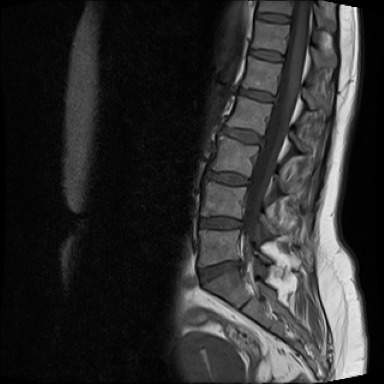Lumbar Disc Bulge (LDB): (188, 251, 249, 291), (211, 120, 269, 150), (194, 208, 248, 234), (230, 82, 281, 106), (199, 170, 258, 190)
Normal IVD: (242, 43, 285, 66), (248, 9, 294, 28)
Spinal Stenosis (SS): (245, 130, 270, 158), (264, 86, 282, 111), (239, 173, 257, 193), (232, 212, 248, 234), (230, 253, 247, 272)
